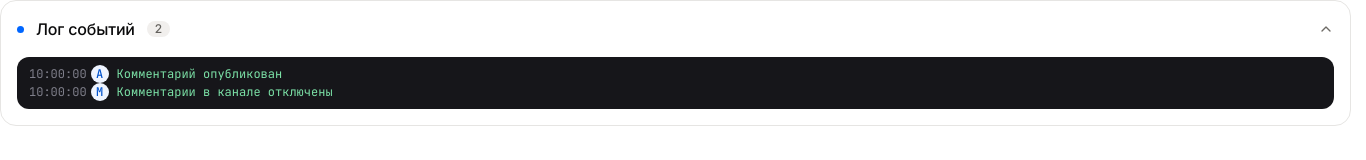
Test case: clicking an account narrows the feed to it, and the chip restores everything
What coordinates should you click on to do the following:
click the button named "Alisa"
I would click on:
 (100, 74)
Its box is x1=91 y1=65 x2=109 y2=83.
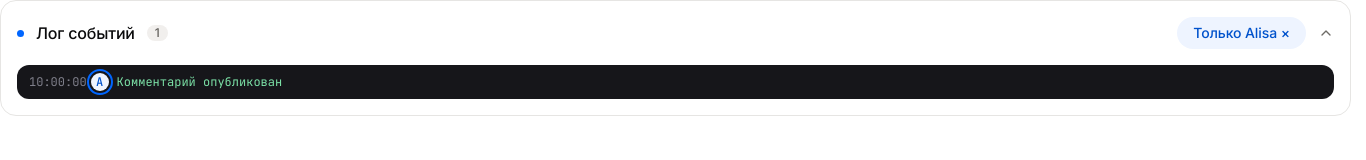
Check: the text "Комментарий опубликован" is shown, box x1=117 y1=74 x2=282 y2=90
Check: the text "Комментарии в канале отключены" is gone
What coordinates should you click on to do the following:
click the button titled "Показать все"
I would click on:
 (1242, 33)
Its box is x1=1177 y1=17 x2=1306 y2=49.
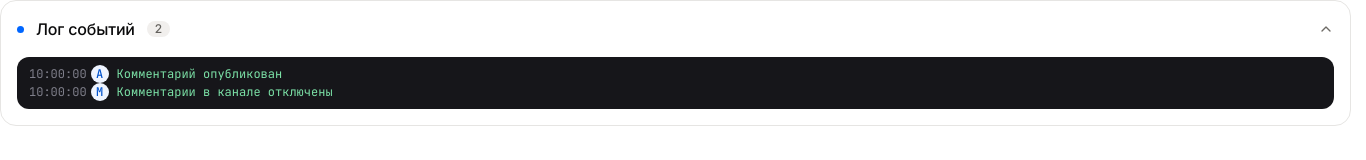
Check: the text "Комментарии в канале отключены" is shown, box x1=117 y1=84 x2=333 y2=100
